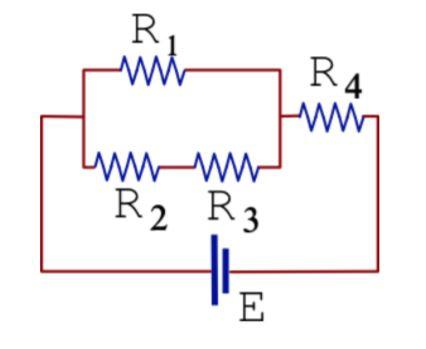resistor: (87, 52, 198, 92), (185, 140, 261, 190), (288, 94, 372, 137), (90, 143, 165, 184)
